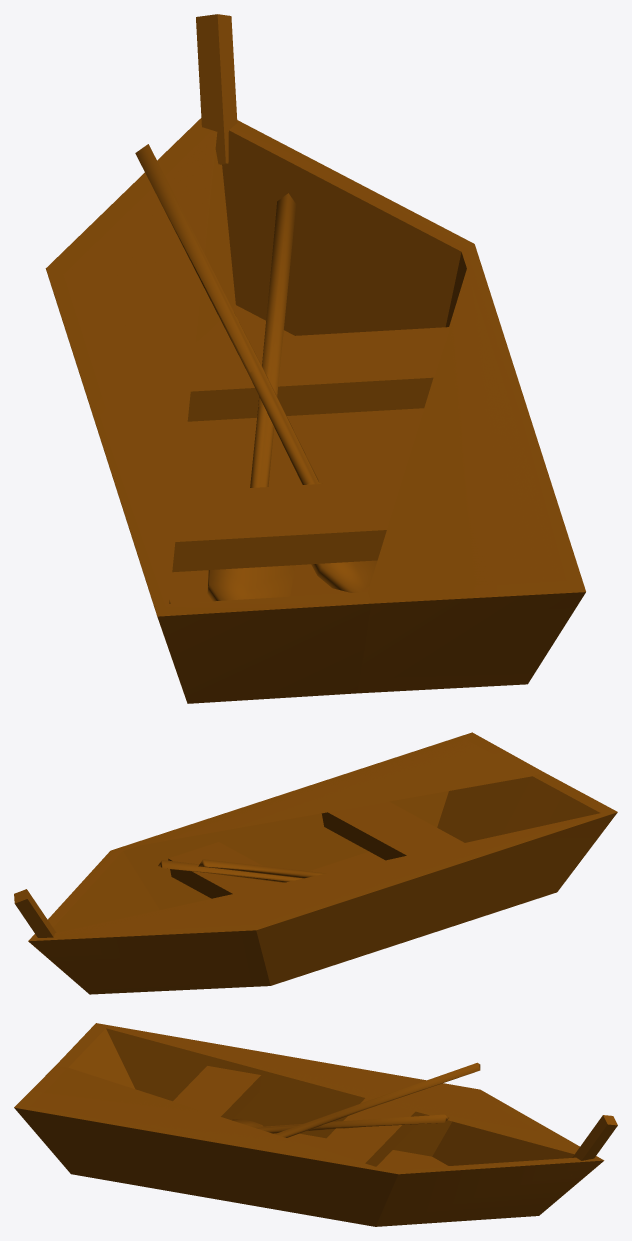
The model's file is lodka.fbx.
The picture shows the model from 3 angles, top to bottom: view 1: azimuth 30°, elevation 25°; view 2: azimuth 150°, elevation 25°; view 3: azimuth 270°, elevation 25°; orthographic projection. The views are drawn at different scales.
Parts seen in each view (by area): view 1: Plane.031, Plane.032, Plane.033, Cube.075; view 2: Plane.031, Cube.075, Plane.032, Plane.033; view 3: Plane.031, Plane.033, Plane.032, Cube.075.
Part boxes in pixels (x1,y1,x2,y2): Plane.031: (45,118,585,703); Plane.032: (207,193,296,601); Plane.033: (135,144,377,592); Cube.075: (196,14,237,164); Plane.031: (28,732,617,994); Cube.075: (14,889,56,937); Plane.032: (158,860,303,882); Plane.033: (198,859,325,878); Plane.031: (14,1023,604,1226); Plane.033: (275,1062,480,1137); Plane.032: (232,1114,448,1133); Cube.075: (571,1115,617,1175).
Size of the model in its own units: 171 by 64.54 by 288.
